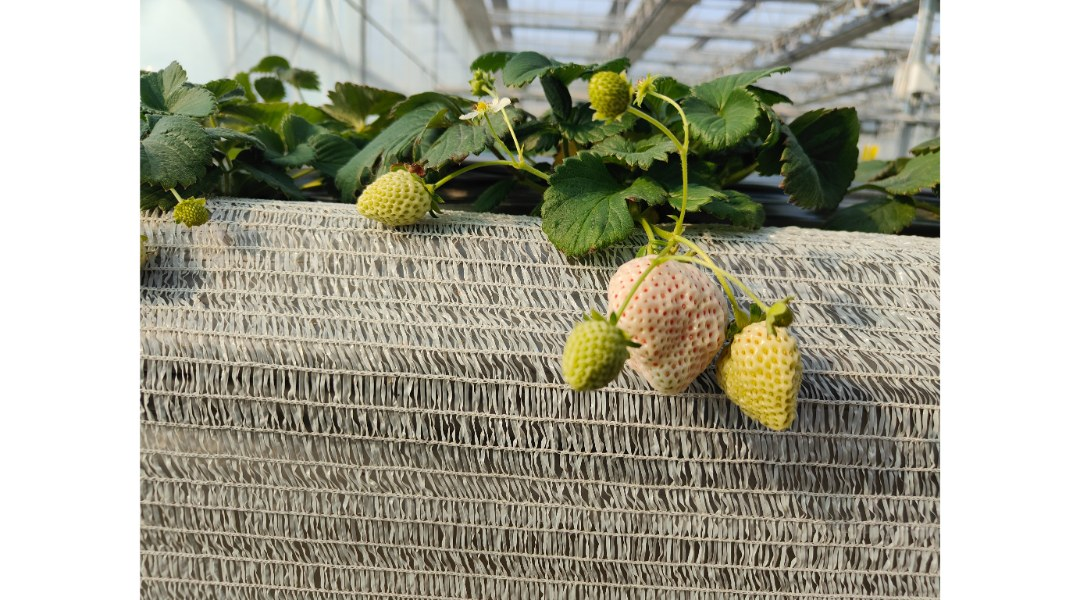berry: (610, 253, 730, 400), (724, 305, 810, 441), (561, 302, 626, 409), (348, 163, 434, 232), (581, 59, 638, 124), (165, 194, 213, 229)
flower: (454, 98, 512, 123)
strain: (427, 156, 510, 190), (627, 107, 677, 146), (674, 160, 685, 235), (484, 118, 506, 149), (511, 108, 524, 153), (678, 105, 691, 148), (524, 162, 548, 184)
